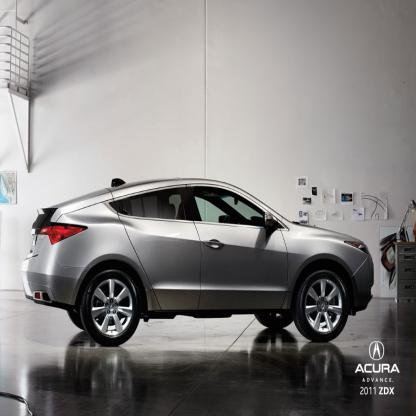Vehicle: (20, 174, 376, 350)
